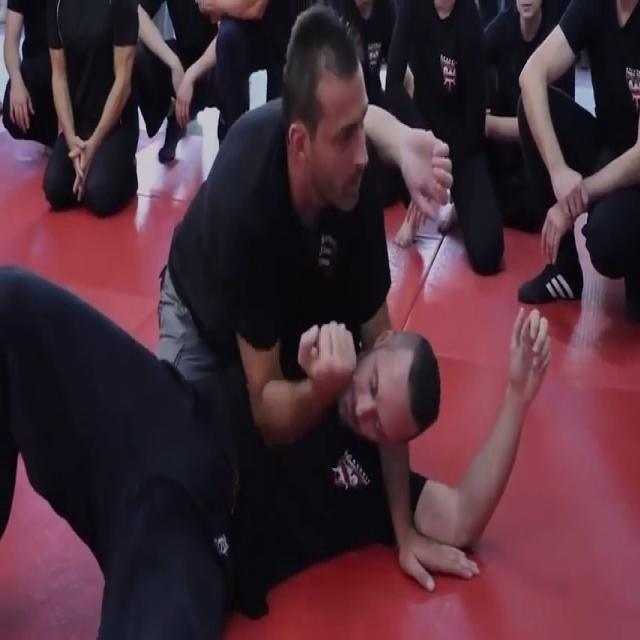fight: (0, 8, 552, 640)
